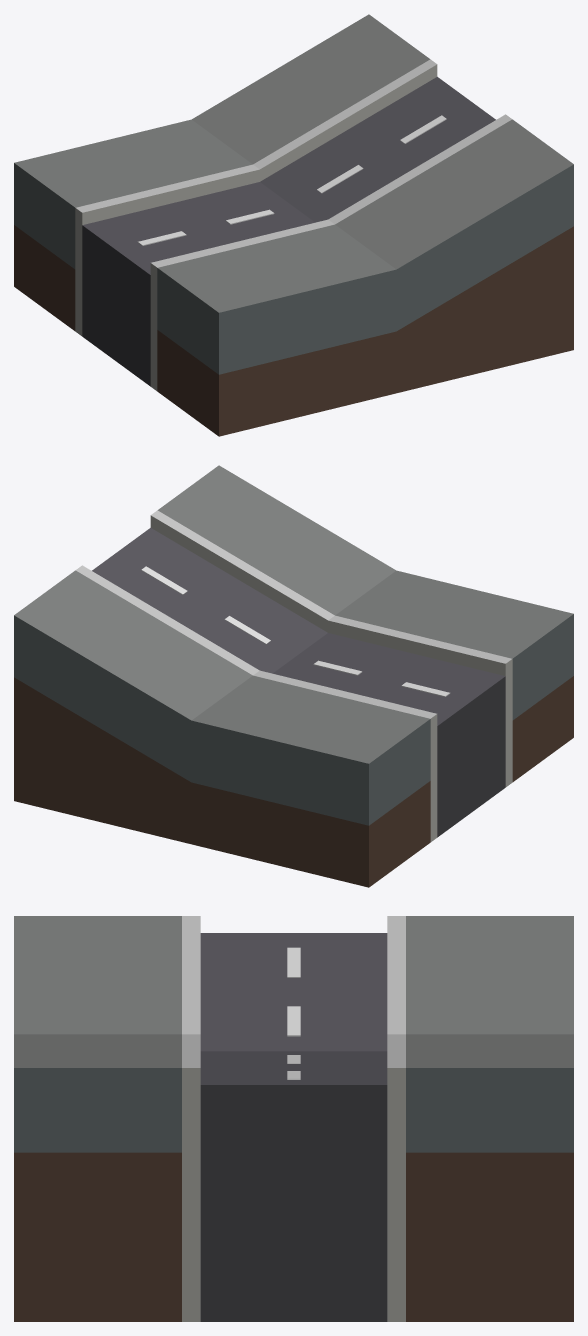
Rendered from TB_CITY_Road_Uphill_B.FBX.
The picture shows the model from 3 angles, top to bottom: view 1: azimuth 30°, elevation 25°; view 2: azimuth 150°, elevation 25°; view 3: azimuth 270°, elevation 25°; orthographic projection. The views are drawn at different scales.
Visible parts, largest first — view 1: TB_CITY_Road_Uphill_B; view 2: TB_CITY_Road_Uphill_B; view 3: TB_CITY_Road_Uphill_B.
Part boxes in pixels (<box>): TB_CITY_Road_Uphill_B: <box>14,14,573,436</box>; TB_CITY_Road_Uphill_B: <box>14,465,573,887</box>; TB_CITY_Road_Uphill_B: <box>14,916,573,1321</box>.
Size of the model in its own units: 30 by 15 by 30.
